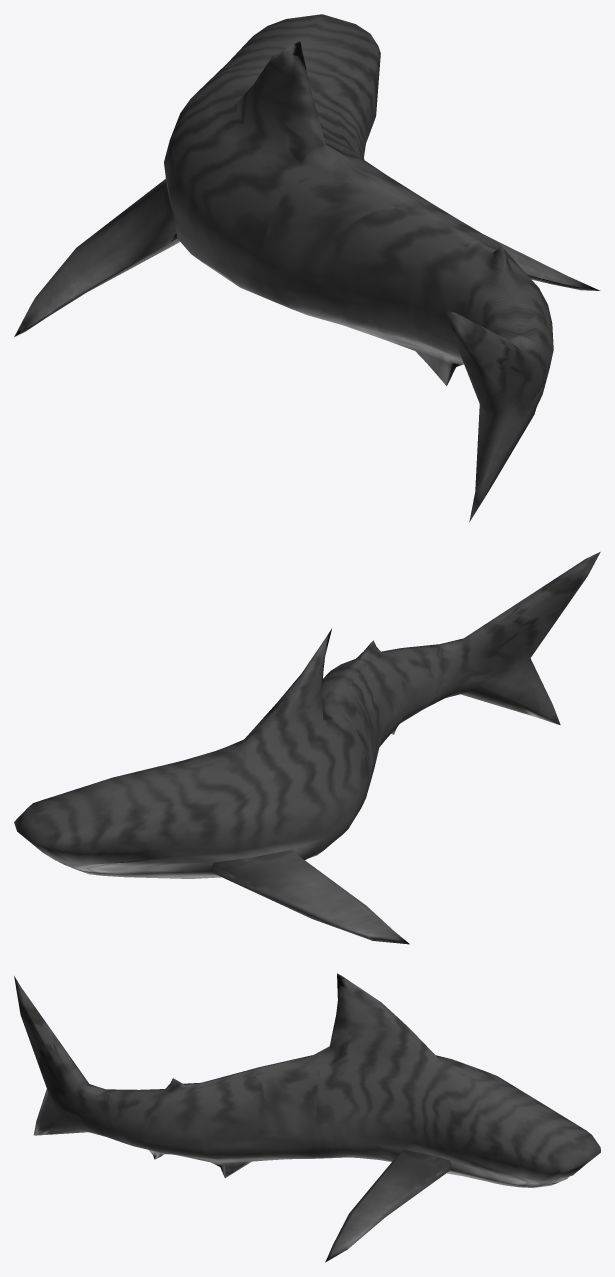
File: Tigerhaj.fbx
3 renders of one model, top to bottom at view 1: azimuth 30°, elevation 25°; view 2: azimuth 150°, elevation 25°; view 3: azimuth 270°, elevation 25°, orthographic. The views are drawn at different scales.
Visible parts, largest first — view 1: Cube; view 2: Cube; view 3: Cube.
Boxes of the visible parts, left/top/right/bottom form: Cube: left=14, top=14, right=600, bottom=521; Cube: left=14, top=552, right=600, bottom=944; Cube: left=14, top=973, right=600, bottom=1262.
Bounding box in the file's own units: 971 × 1595 × 598.
